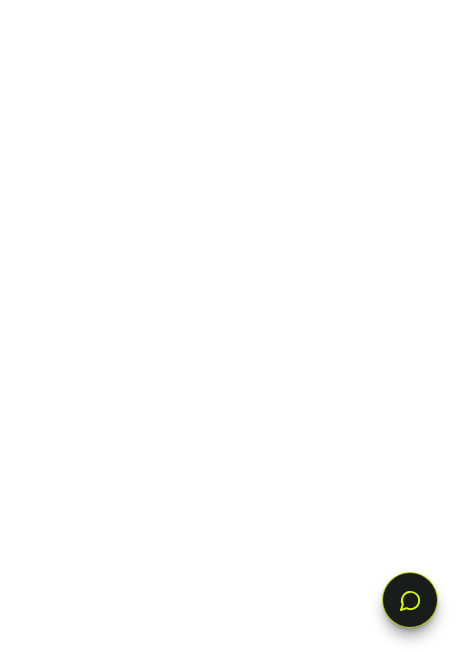
it: Pratham AI voice playback › clears the generating state and shows the existing fallback when TTS fails
Click the button named "Open Pratham AI chat".
click(410, 600)  # box [382,572,438,628]
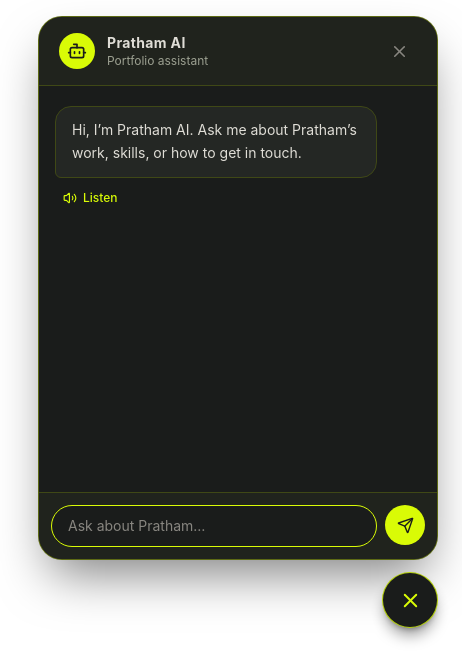
Click the button "Listen".
click(90, 198)  # box [55,186,126,210]
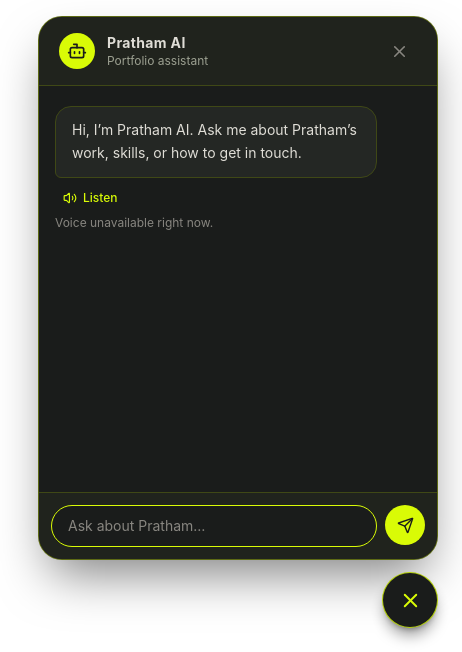
Now the text "Listen" is shown, box [55,186,126,210]
Now the text "Voice unavailable right now." is shown, box [55,214,213,230]
